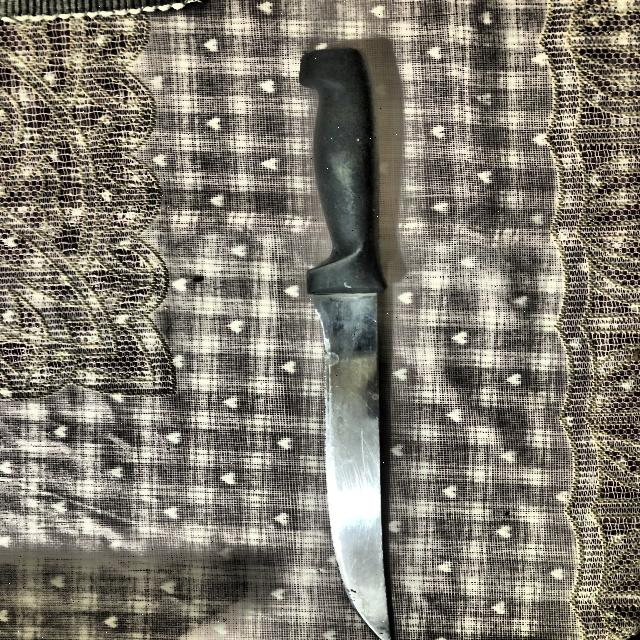knife: (300, 48, 391, 640)
